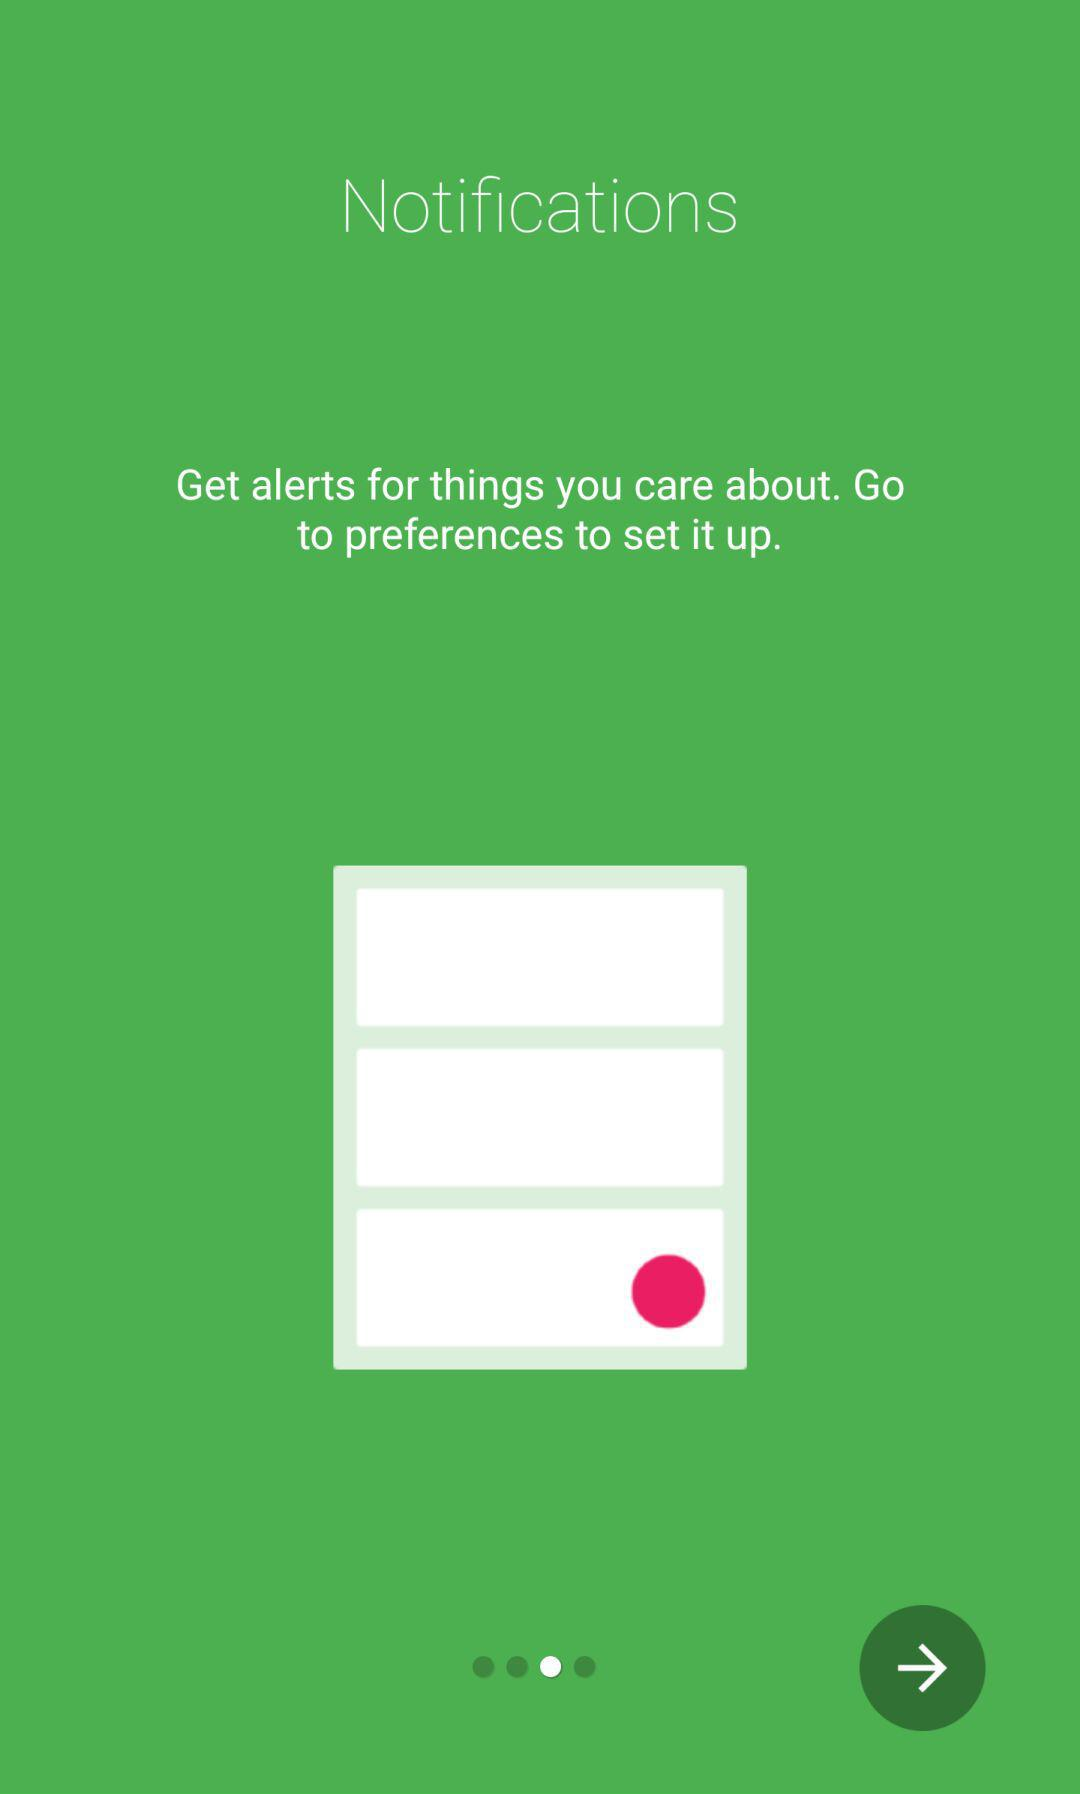Icon: (858, 1604, 986, 1732)
Image: (333, 865, 749, 1371)
PageIndicator: (471, 1654, 598, 1681)
Text: (177, 465, 906, 563), (345, 174, 738, 237)
